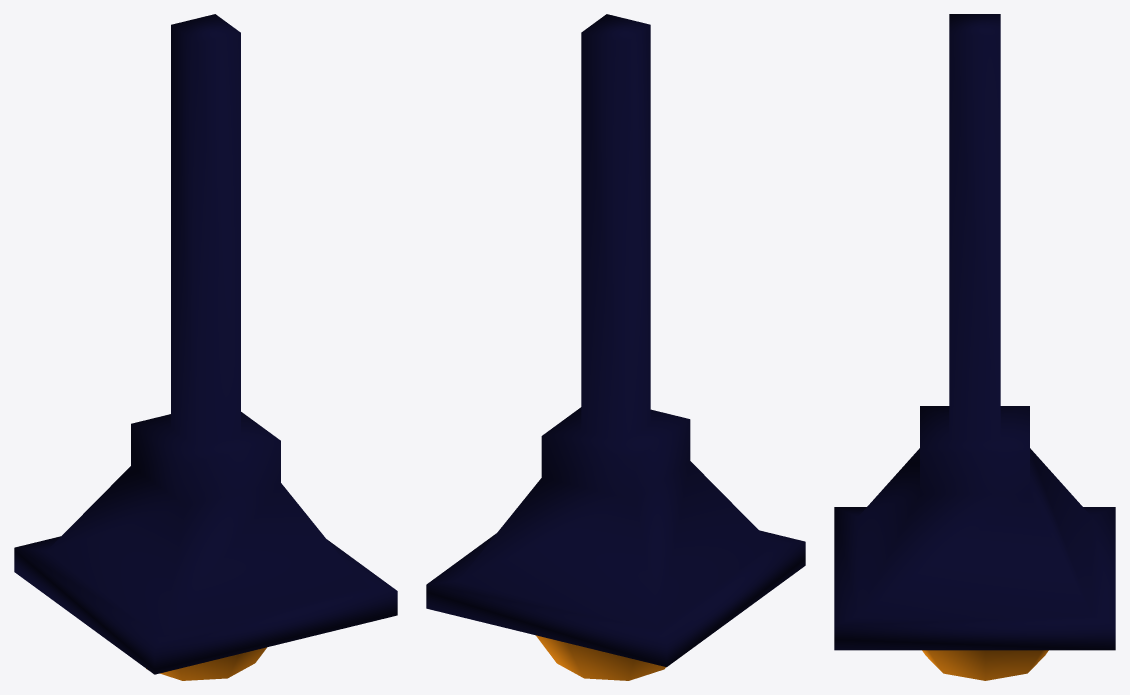
The model's file is Lamp.fbx.
The picture shows the model from 3 angles, left to right: view 1: azimuth 30°, elevation 25°; view 2: azimuth 150°, elevation 25°; view 3: azimuth 270°, elevation 25°; orthographic projection.
Parts seen in each view (by area): view 1: Cube.032; view 2: Cube.032; view 3: Cube.032.
Boxes of the visible parts, x1,y1,x2,y2 form: Cube.032: [14, 14, 397, 680]; Cube.032: [426, 14, 805, 680]; Cube.032: [834, 14, 1115, 680].
Size of the model in its own units: 54.91 by 139 by 54.91.
